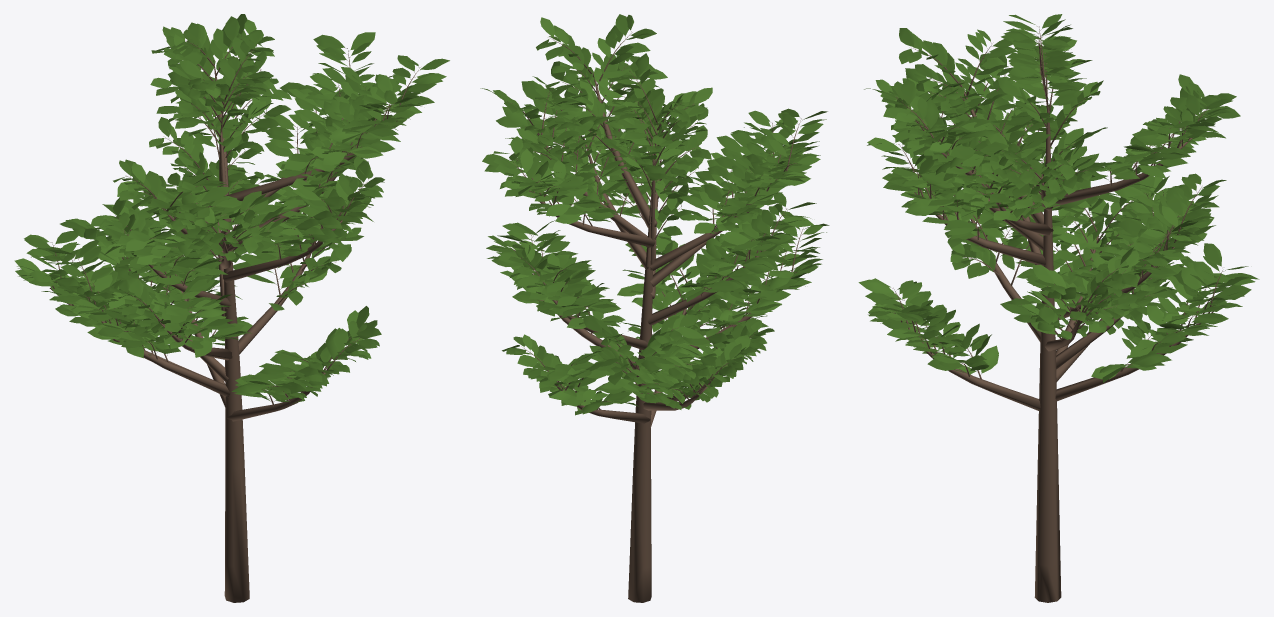
File: broadleaf-lod1.glb
3 renders of one model, left to right at view 1: azimuth 30°, elevation 25°; view 2: azimuth 150°, elevation 25°; view 3: azimuth 270°, elevation 25°, orthographic. The views are drawn at different scales.
Parts seen in each view (by area): view 1: tree_foliage, tree_trunk, tree_twigs, tree_branch_4, tree_branch_3, tree_branch_8, tree_branch_5, tree_branch_11; view 2: tree_foliage, tree_trunk, tree_twigs, tree_branch_8, tree_branch_2, tree_branch_9, tree_branch_1, tree_branch_6, tree_branch_15, tree_branch_0; view 3: tree_foliage, tree_trunk, tree_twigs, tree_branch_11, tree_branch_2, tree_branch_3, tree_branch_15, tree_branch_7.
Boxes of the visible parts, x1,y1,x2,y2 form: tree_foliage: [14, 14, 449, 403]; tree_trunk: [220, 132, 249, 602]; tree_twigs: [50, 35, 420, 406]; tree_branch_4: [101, 321, 230, 396]; tree_branch_3: [223, 220, 342, 282]; tree_branch_8: [227, 120, 397, 200]; tree_branch_5: [238, 241, 316, 354]; tree_branch_11: [226, 372, 325, 421]; tree_foliage: [480, 14, 829, 415]; tree_trunk: [628, 159, 655, 602]; tree_twigs: [507, 31, 805, 410]; tree_branch_8: [593, 72, 657, 227]; tree_branch_2: [529, 190, 655, 247]; tree_branch_9: [647, 250, 765, 325]; tree_branch_1: [650, 206, 756, 270]; tree_branch_6: [650, 227, 716, 287]; tree_branch_15: [554, 384, 650, 423]; tree_branch_0: [583, 136, 650, 269]; tree_foliage: [858, 14, 1259, 382]; tree_trunk: [1034, 110, 1061, 602]; tree_twigs: [887, 26, 1223, 378]; tree_branch_11: [925, 347, 1040, 410]; tree_branch_2: [1053, 138, 1192, 206]; tree_branch_3: [914, 192, 1045, 265]; tree_branch_15: [1055, 311, 1213, 401]; tree_branch_7: [1056, 278, 1151, 369].
Bounding box in the file's own units: 2.61 × 4.29 × 2.73.
